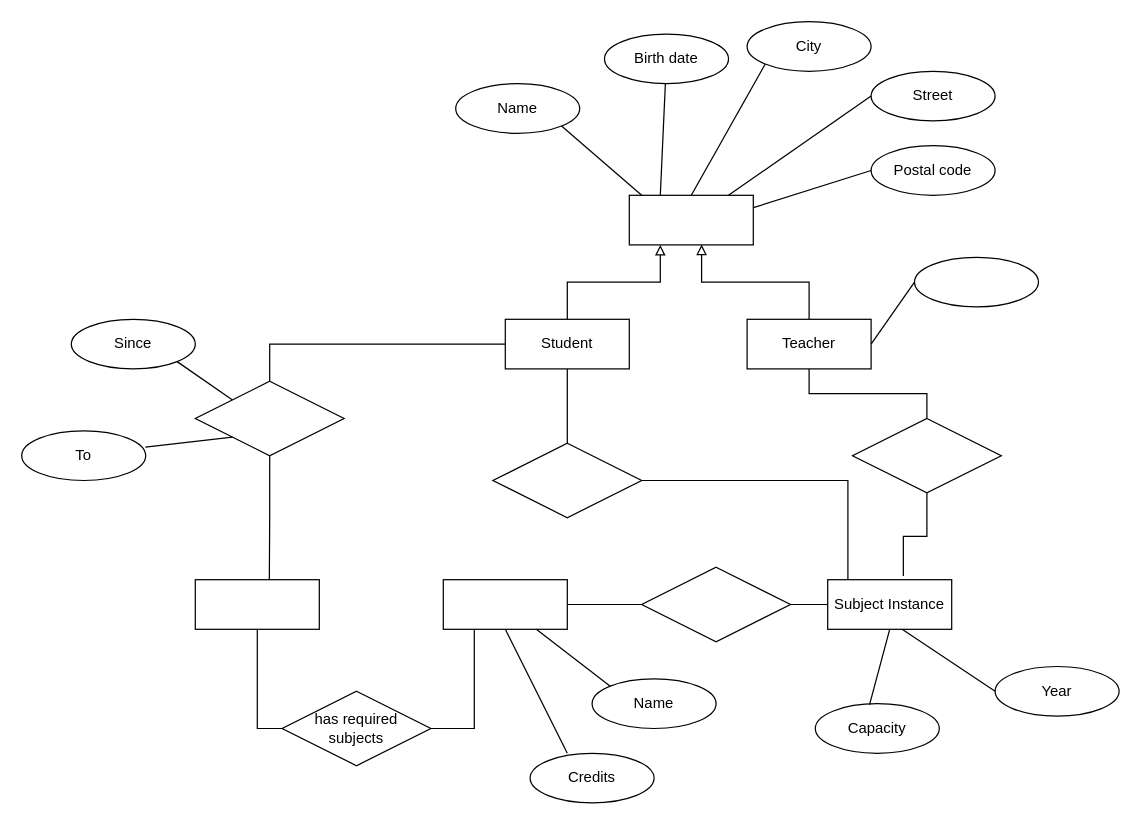
Some shapes in this 1141 by 825 pixel diagram are drawn without their labels. The box of each missing label's shape, as (x1, y1, x2, y2) in pixels:
is instance of: (640, 566, 790, 642)
Person: (628, 194, 753, 245)
Salary: (913, 256, 1038, 307)
studies programme: (194, 380, 344, 456)
studies subject: (492, 442, 642, 518)
Study Programme: (194, 578, 319, 629)
Subject: (442, 578, 567, 629)
teaches: (851, 417, 1001, 493)
